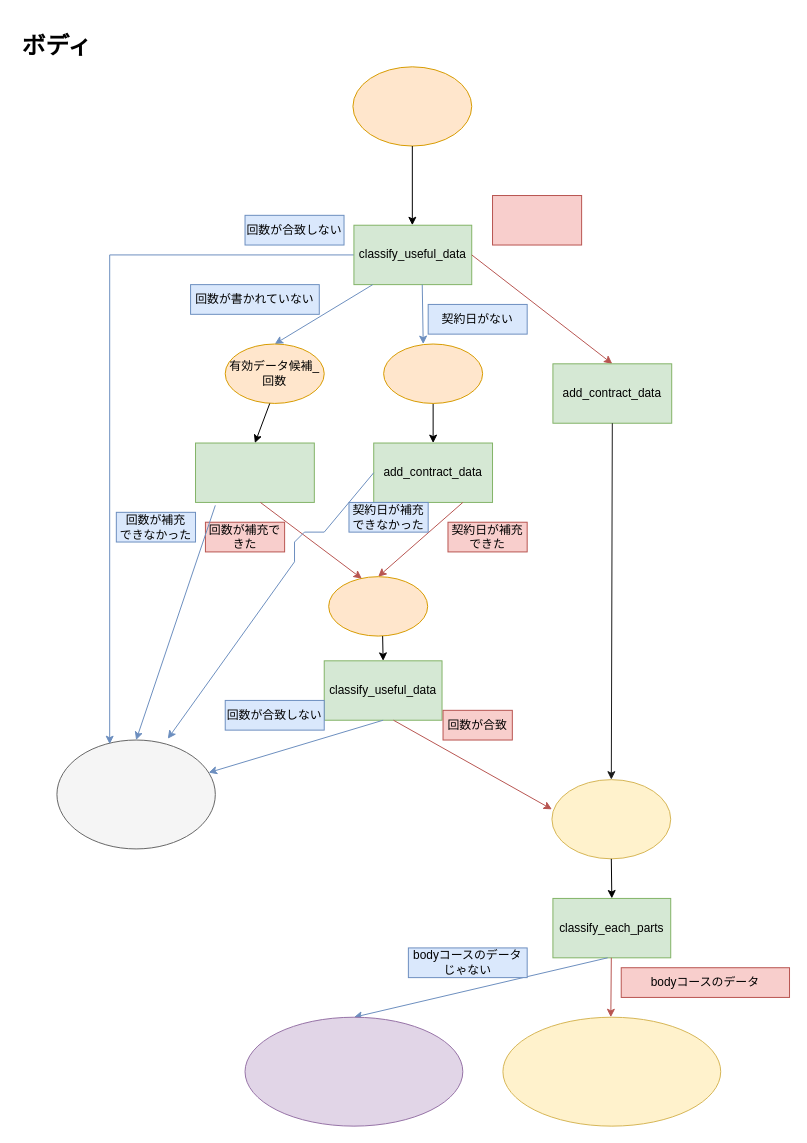
Image size: 807x1143. Some labels were removed from this diagram. Here are the shapes that lost their labels. From the top down, the box of each, then its label:
(352, 66, 472, 146): 元データ (visit_date)
(492, 195, 582, 245): 回数が合致 and 契約日がある
(383, 343, 483, 403): 有効データ候補_契約日
(195, 442, 314, 502): add_visit_count
(328, 576, 428, 636): 有効データ候補
(56, 739, 215, 849): 無効データ
(551, 779, 671, 859): 有効データ
(244, 1016, 463, 1126): 有効データ_other
(502, 1016, 721, 1126): 有効データ_body
